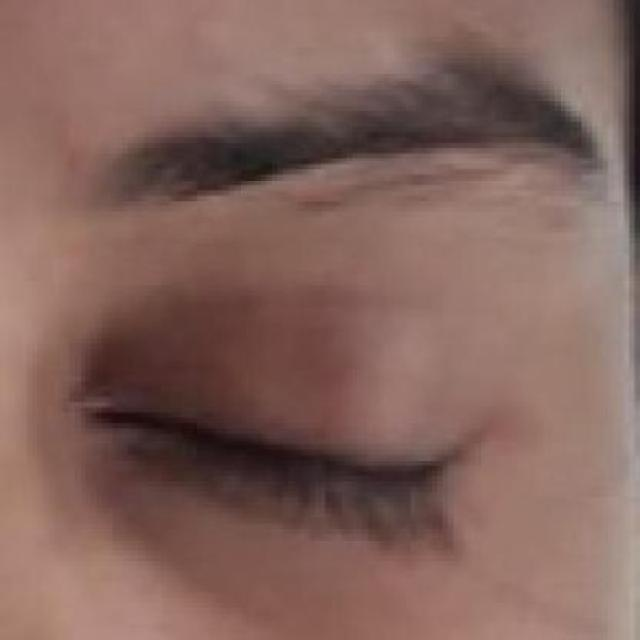drowsy: (84, 287, 478, 607)
